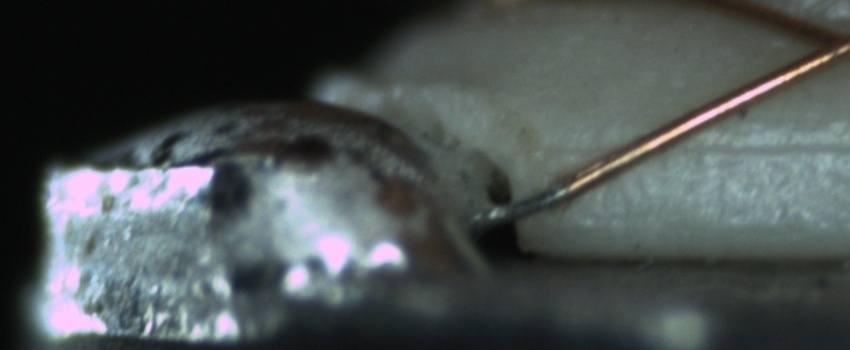CL: (794, 12, 850, 74)
DL: (597, 114, 849, 180)
TS: (479, 181, 564, 225)
TTCW: (475, 167, 596, 226)
